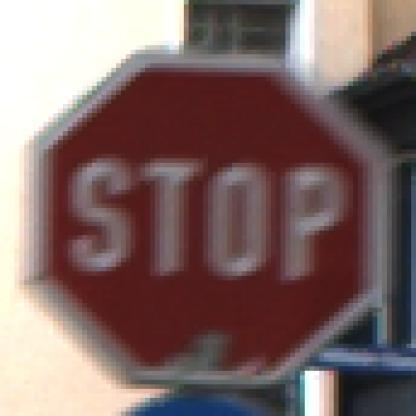Stop: (35, 53, 382, 384)
